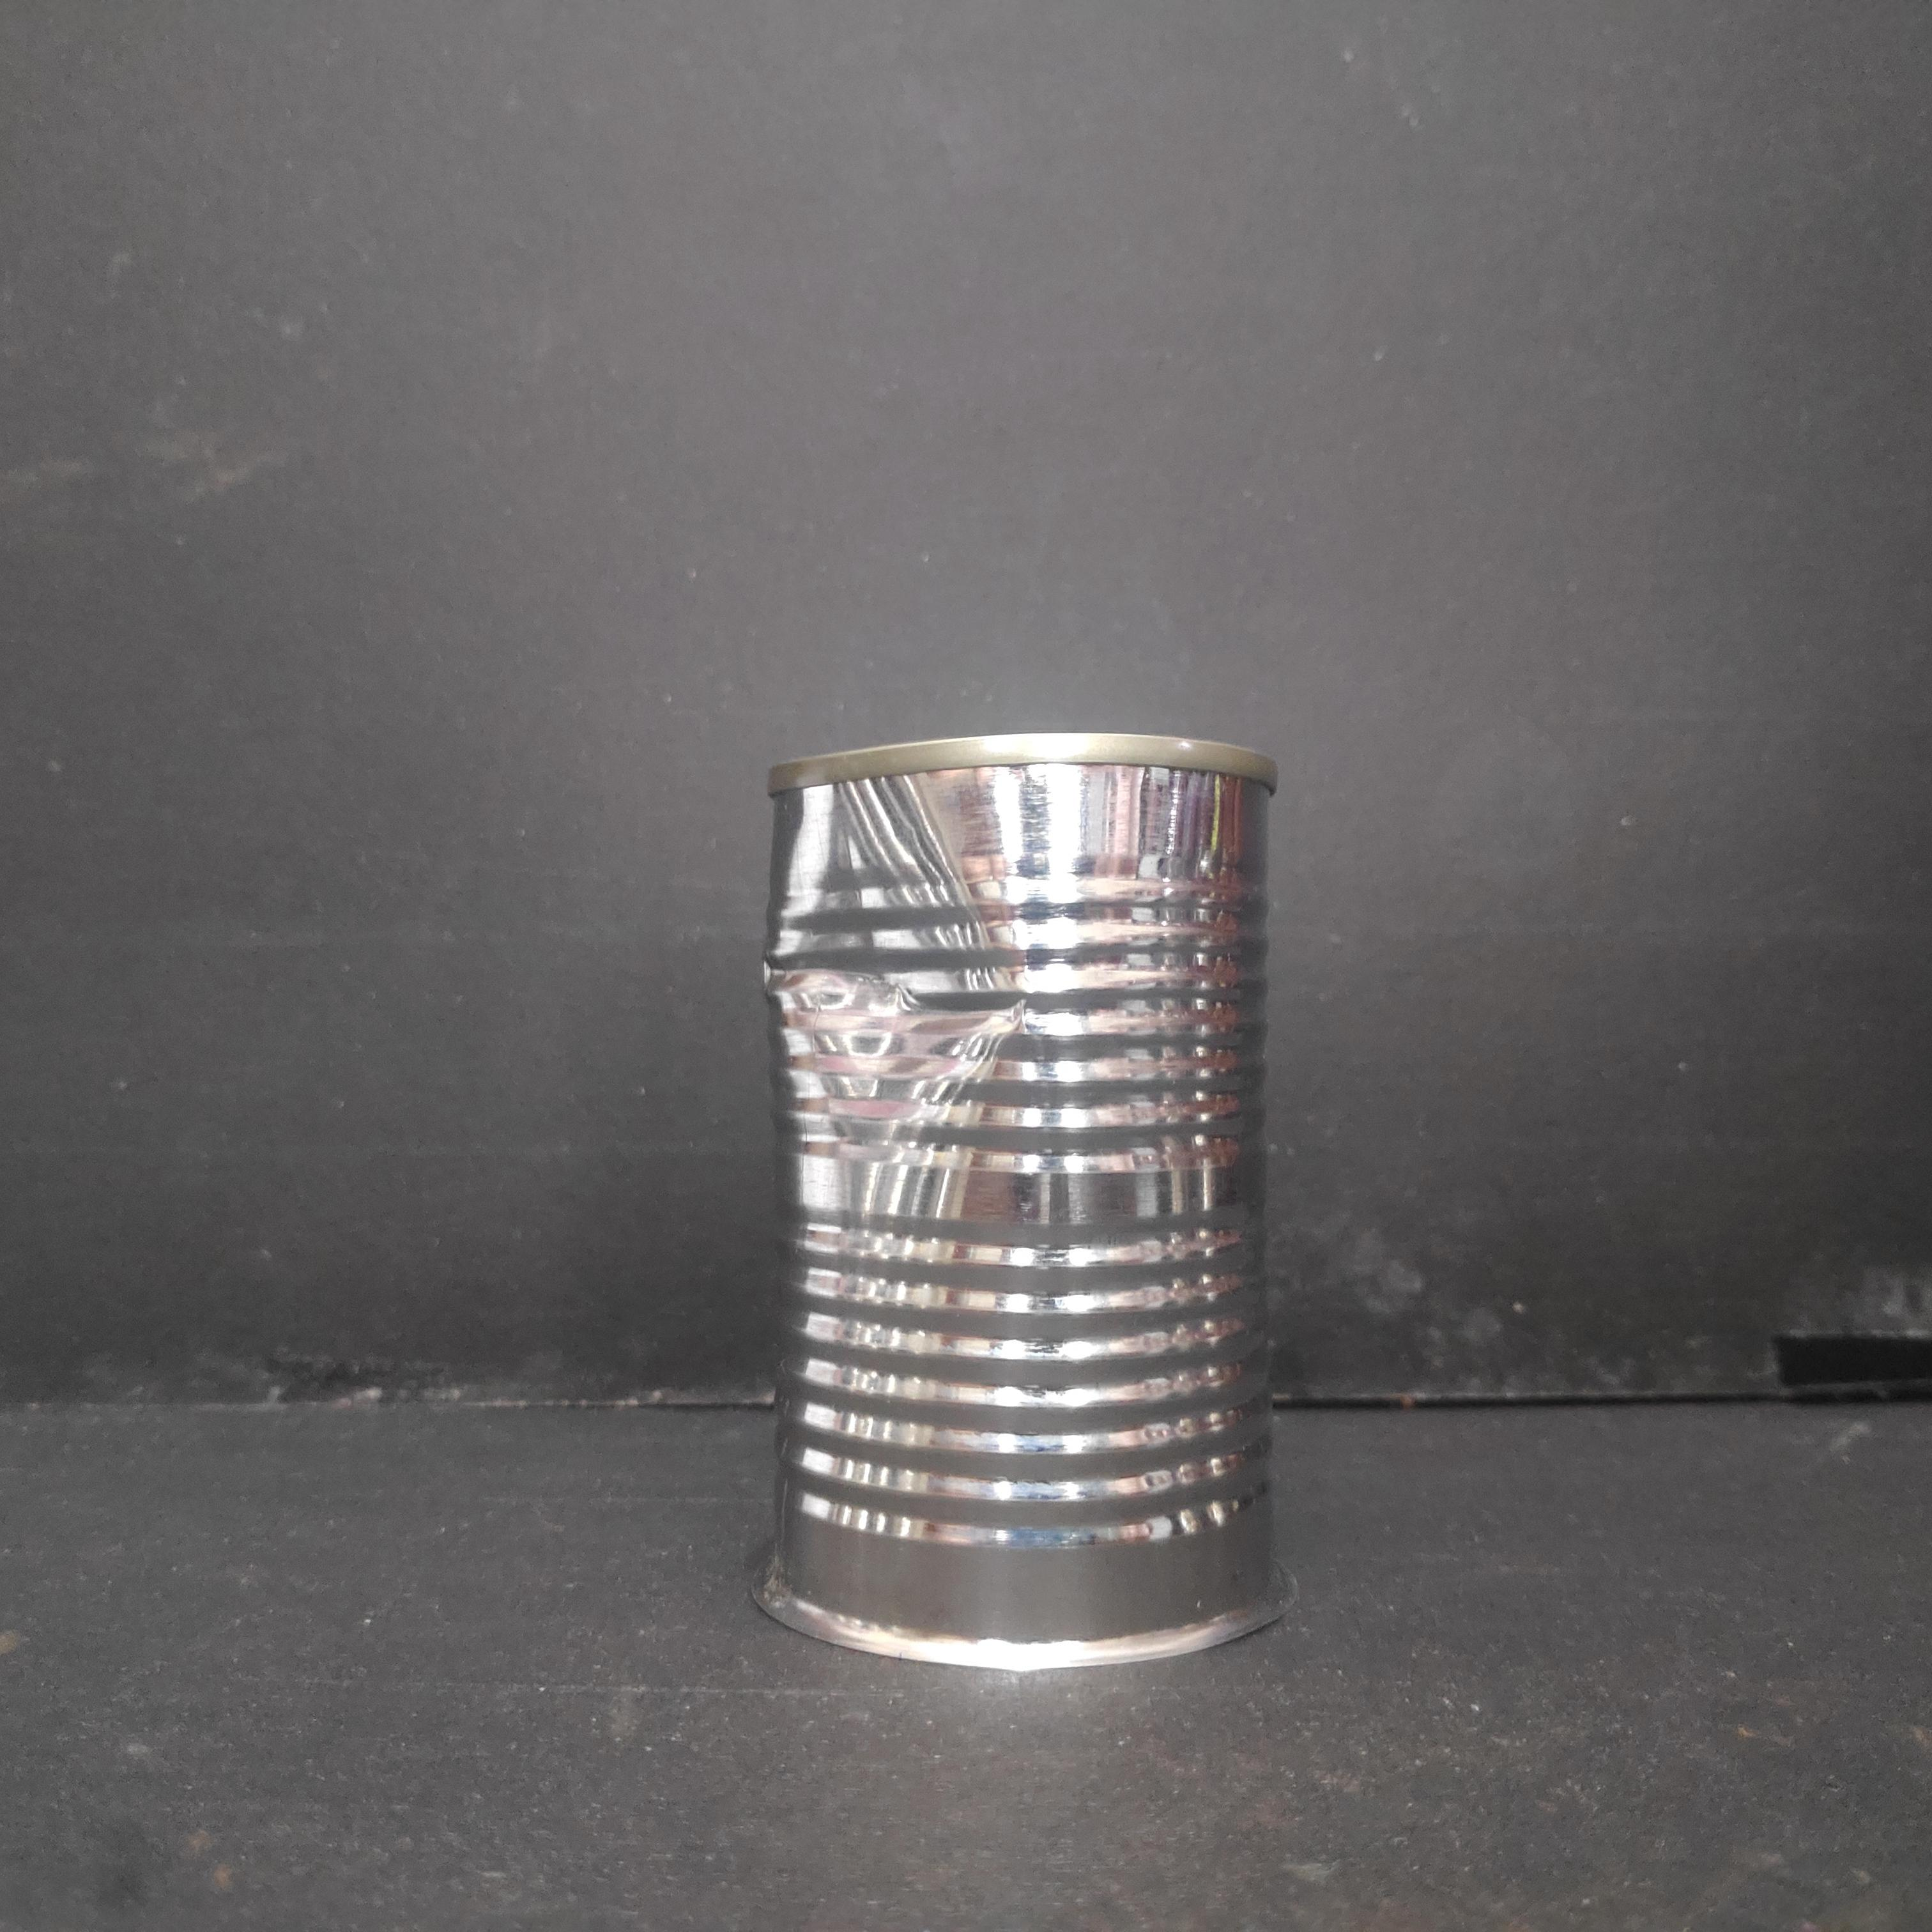Minor Defect: (745, 722, 1304, 1686)
